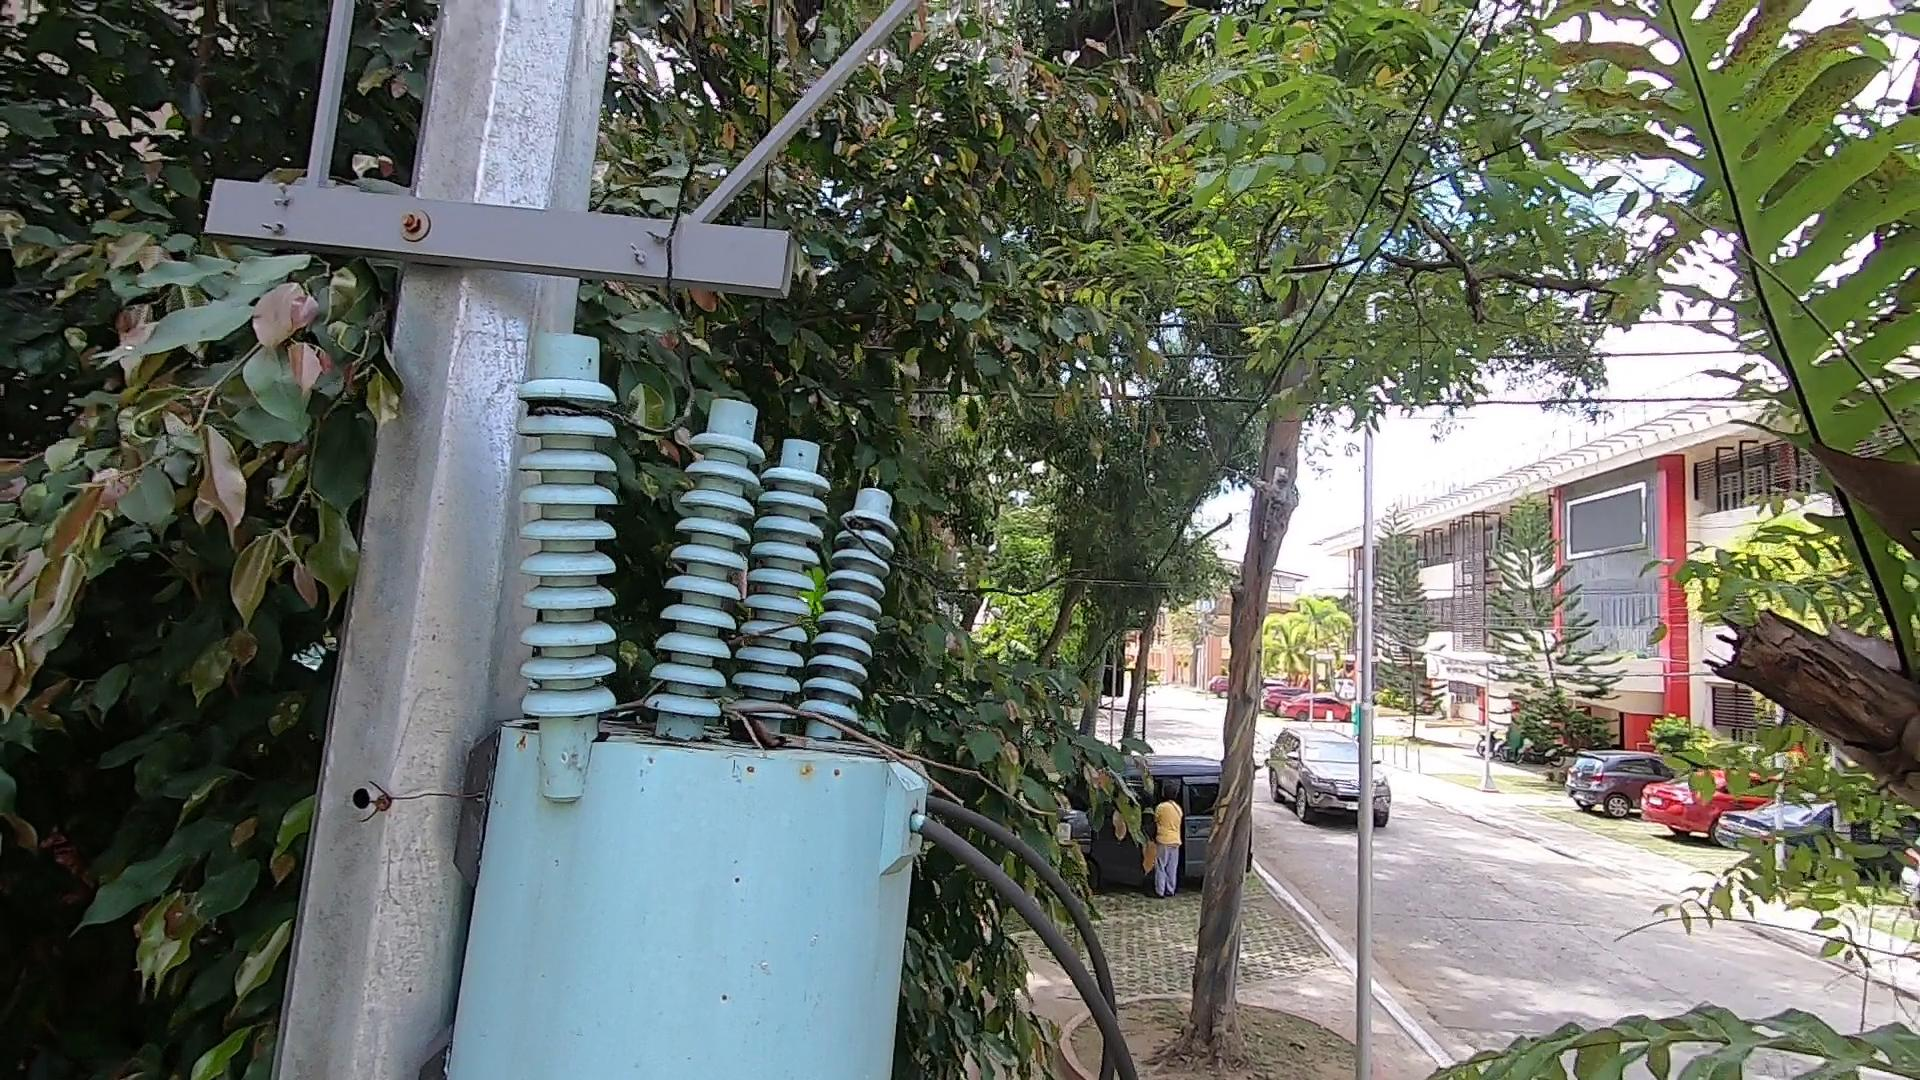leaf: (724, 702, 779, 750)
tree branch: (568, 659, 1056, 839)
